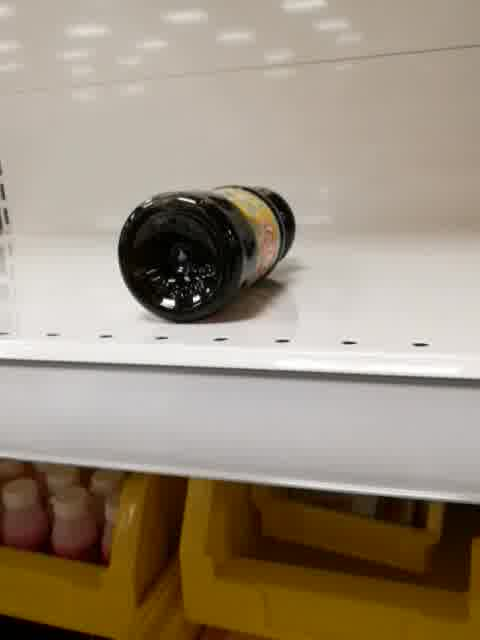cookingoil: (110, 179, 300, 326)
